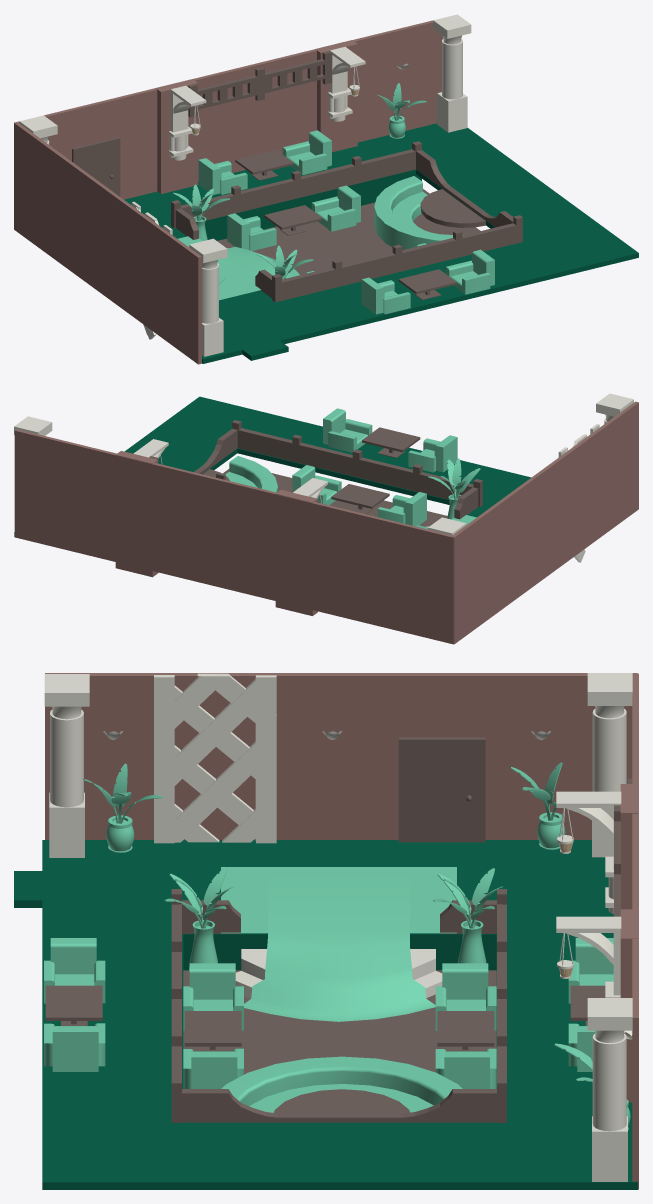
Rendered from Restaurant_Main_Area.fbx.
The picture shows the model from 3 angles, top to bottom: view 1: azimuth 30°, elevation 25°; view 2: azimuth 150°, elevation 25°; view 3: azimuth 270°, elevation 25°; orthographic projection. The views are drawn at different scales.
Parts seen in each view (by area): view 1: Wall, Floor, Railing, Chairs, Fancy_column_full_width, Wall_extrusion, Pit_floor, Column_with_lantern, Curved_seat, Tables, Railing_wall, Rug (+7 smaller); view 2: Wall, Floor, Railing, Chairs, Tables, Fancy_column_full_width, Curved_seat, Wall_extrusion, Plant_Var3, Column_with_lantern, Pit_floor, Railing_end (+1 smaller); view 3: Floor, Wall, Rug, Fancy_column_full_width, Chairs, Wall_fenceV2, Pit_floor, Door, Curved_seat, Tables, Railing_end, Column_with_lantern (+9 smaller).
Part boxes in pixels (x1,y1,x2,y2): Wall: (14,20,443,364); Floor: (124,123,638,363); Railing: (171,141,522,302); Chairs: (198,130,494,314); Fancy_column_full_width: (19,14,471,356); Wall_extrusion: (155,40,357,193); Pit_floor: (217,189,480,274); Column_with_lantern: (169,46,365,160); Curved_seat: (374,176,463,249); Tables: (235,150,456,299); Railing_wall: (188,51,332,117); Rug: (178,236,299,300); Wall: (14,401,638,644); Floor: (14,396,531,536); Railing: (232,420,482,507); Chairs: (292,408,457,525); Tables: (331,427,420,514); Fancy_column_full_width: (14,393,633,535); Curved_seat: (225,456,277,492); Wall_extrusion: (115,451,317,615); Plant_Var3: (428,458,480,519); Column_with_lantern: (133,439,327,503); Pit_floor: (223,469,447,526); Railing_end: (194,428,237,474); Floor: (14,840,637,1189); Wall: (45,673,638,1189); Rug: (221,867,456,1021); Fancy_column_full_width: (44,673,632,1181); Chairs: (44,938,613,1088); Wall_fenceV2: (154,673,276,843); Pit_floor: (183,970,496,1074); Door: (398,737,632,842); Curved_seat: (221,1056,462,1112); Tables: (45,985,605,1051); Railing_end: (182,1089,496,1122); Column_with_lantern: (556,791,621,997).
Bounding box in the file's own units: 97.68 × 29.65 × 74.39.
